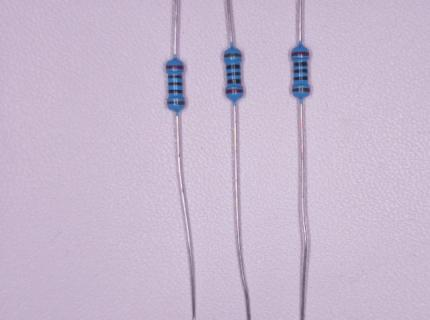Black band: (226, 65, 241, 70), (227, 79, 241, 84), (294, 62, 308, 67), (227, 72, 241, 76), (294, 69, 308, 73), (294, 77, 308, 81), (168, 90, 183, 93), (168, 75, 182, 78), (168, 83, 182, 86)
Brown band: (293, 88, 310, 93), (167, 101, 185, 105), (224, 54, 242, 58)
Red band: (226, 89, 244, 94), (291, 52, 309, 56), (166, 66, 184, 69)
